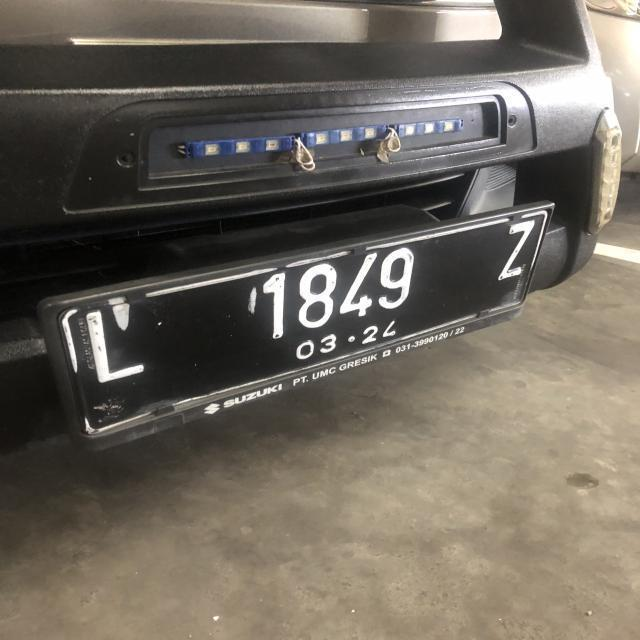1: (258, 270, 296, 342)
4: (337, 253, 378, 318)
8: (296, 260, 336, 330)
9: (378, 248, 418, 310)
L: (82, 308, 154, 386)
Z: (496, 218, 534, 285)
